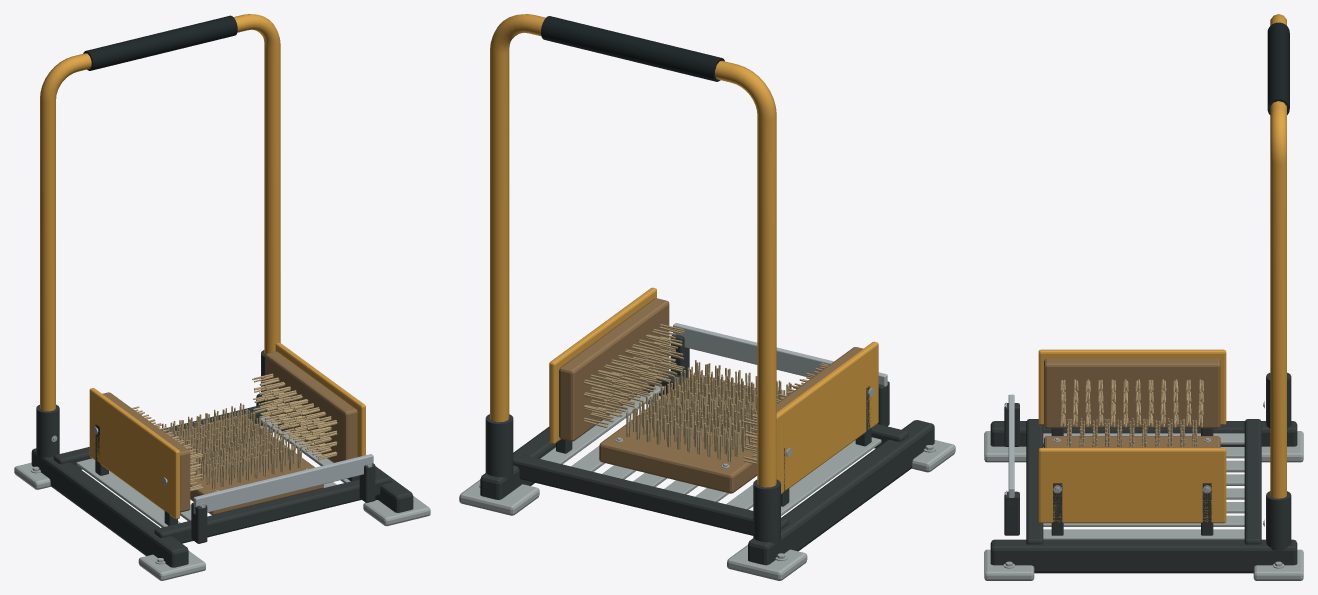
The model's file is city-boot-cleaning-station.glb.
3 views of the same model, side by side, from view 1: azimuth 30°, elevation 25°; view 2: azimuth 150°, elevation 25°; view 3: azimuth 270°, elevation 25° (orthographic). The views are drawn at different scales.
Parts seen in each view (by area): view 1: Assembly | Safety ochre powder coating, Assembly | Graphite cast metal, Assembly | Stiff tan brush fibers, Assembly | Replaceable composite brush block, Assembly | Dull galvanized hardware, Assembly | Satin stainless steel, Assembly | Charcoal elastomer; view 2: Assembly | Safety ochre powder coating, Assembly | Graphite cast metal, Assembly | Stiff tan brush fibers, Assembly | Replaceable composite brush block, Assembly | Dull galvanized hardware, Assembly | Charcoal elastomer, Assembly | Satin stainless steel; view 3: Assembly | Safety ochre powder coating, Assembly | Graphite cast metal, Assembly | Replaceable composite brush block, Assembly | Dull galvanized hardware, Assembly | Stiff tan brush fibers, Assembly | Charcoal elastomer, Assembly | Satin stainless steel.
Part boxes in pixels (left/top/right/bottom): Assembly | Safety ochre powder coating: left=40, top=14, right=365, bottom=519; Assembly | Graphite cast metal: left=31, top=350, right=413, bottom=567; Assembly | Stiff tan brush fibers: left=132, top=373, right=337, bottom=491; Assembly | Replaceable composite brush block: left=102, top=351, right=357, bottom=515; Assembly | Dull galvanized hardware: left=14, top=416, right=430, bottom=580; Assembly | Satin stainless steel: left=193, top=454, right=373, bottom=514; Assembly | Charcoal elastomer: left=83, top=15, right=237, bottom=70; Assembly | Safety ochre powder coating: left=490, top=14, right=878, bottom=494; Assembly | Graphite cast metal: left=480, top=334, right=934, bottom=565; Assembly | Stiff tan brush fibers: left=583, top=324, right=828, bottom=464; Assembly | Replaceable composite brush block: left=559, top=298, right=862, bottom=493; Assembly | Dull galvanized hardware: left=459, top=377, right=955, bottom=580; Assembly | Charcoal elastomer: left=541, top=16, right=724, bottom=81; Assembly | Satin stainless steel: left=673, top=323, right=887, bottom=386; Assembly | Safety ochre powder coating: left=1038, top=14, right=1286, bottom=523; Assembly | Graphite cast metal: left=990, top=372, right=1297, bottom=573; Assembly | Replaceable composite brush block: left=1044, top=358, right=1220, bottom=447; Assembly | Dull galvanized hardware: left=984, top=401, right=1303, bottom=580; Assembly | Stiff tan brush fibers: left=1060, top=379, right=1203, bottom=446; Assembly | Charcoal elastomer: left=1267, top=22, right=1289, bottom=114; Assembly | Satin stainless steel: left=1008, top=394, right=1014, bottom=505.
Size of the model in its own units: 0.729 by 1.07 by 0.688.
